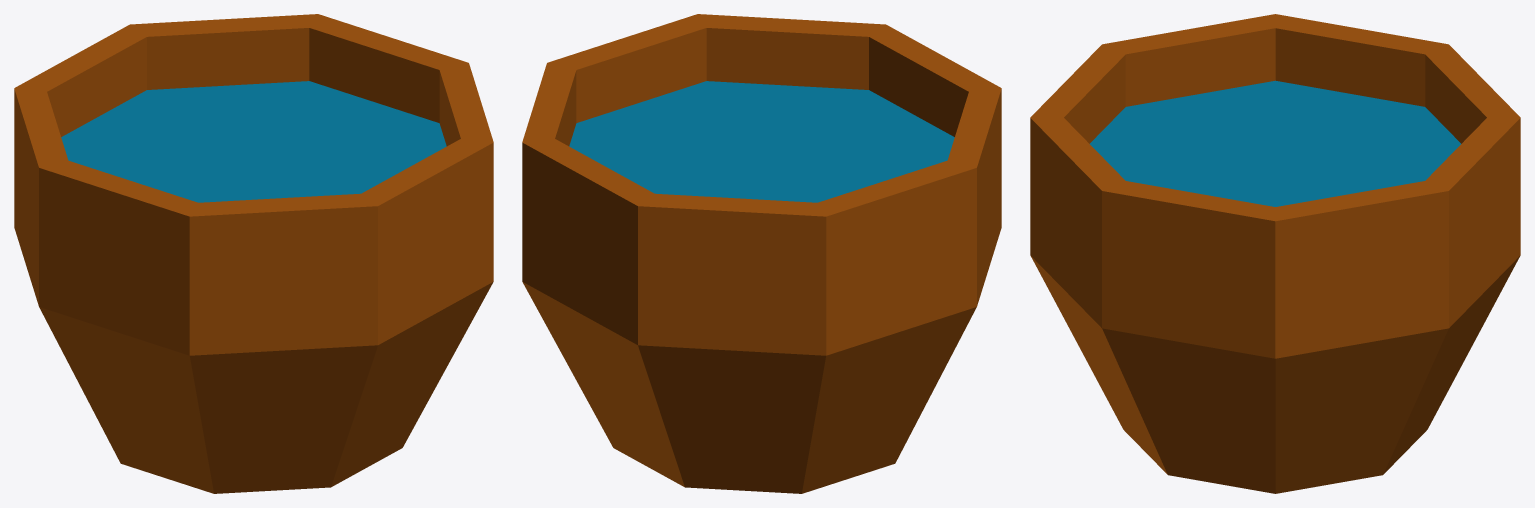
File: waterBucket.fbx
The picture shows the model from 3 angles, left to right: view 1: azimuth 30°, elevation 25°; view 2: azimuth 150°, elevation 25°; view 3: azimuth 270°, elevation 25°; orthographic projection.
Visible parts, largest first — view 1: Cylinder.007; view 2: Cylinder.007; view 3: Cylinder.007.
Boxes of the visible parts, x1,y1,x2,y2 form: Cylinder.007: [14, 14, 493, 493]; Cylinder.007: [522, 14, 1001, 493]; Cylinder.007: [1030, 14, 1520, 493].
Size of the model in its own units: 285 by 200 by 285.
